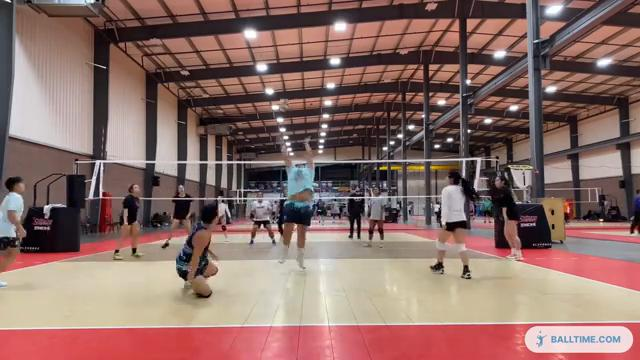alzata: (272, 133, 314, 271)
